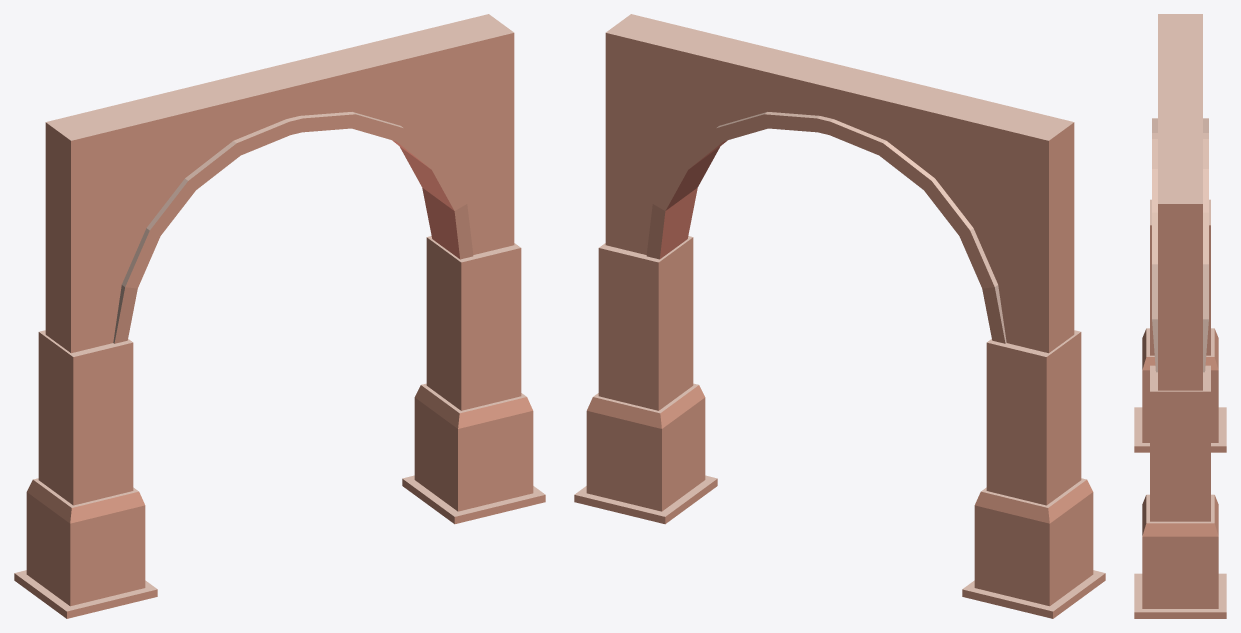
File: arch2.glb
3 renders of one model, left to right at view 1: azimuth 30°, elevation 25°; view 2: azimuth 150°, elevation 25°; view 3: azimuth 270°, elevation 25°, orthographic. The views are drawn at different scales.
Visible parts, largest first — view 1: Arch1; view 2: Arch1; view 3: Arch1.
Boxes of the visible parts, x1,y1,x2,y2 form: Arch1: [14, 14, 545, 618]; Arch1: [574, 14, 1105, 618]; Arch1: [1134, 14, 1226, 618].
Bounding box in the file's own units: 4.32 × 4 × 0.8209.
Materials: 1 (1 with a texture image).
